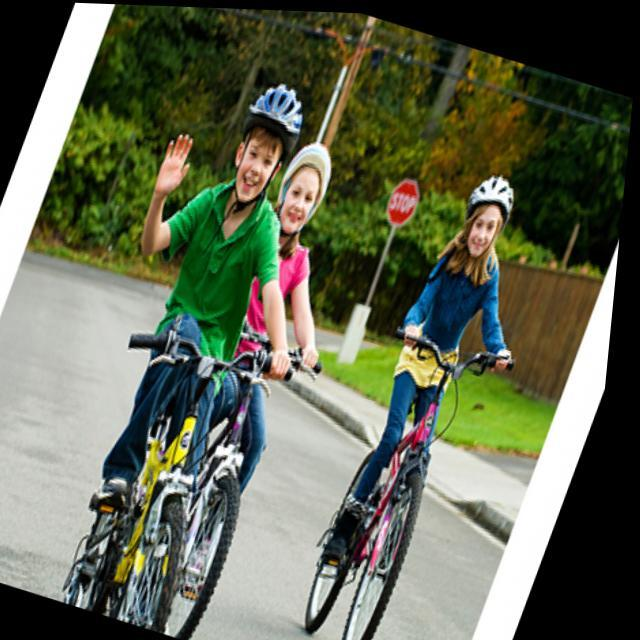Helmet: (220, 80, 310, 212), (454, 164, 518, 270)
